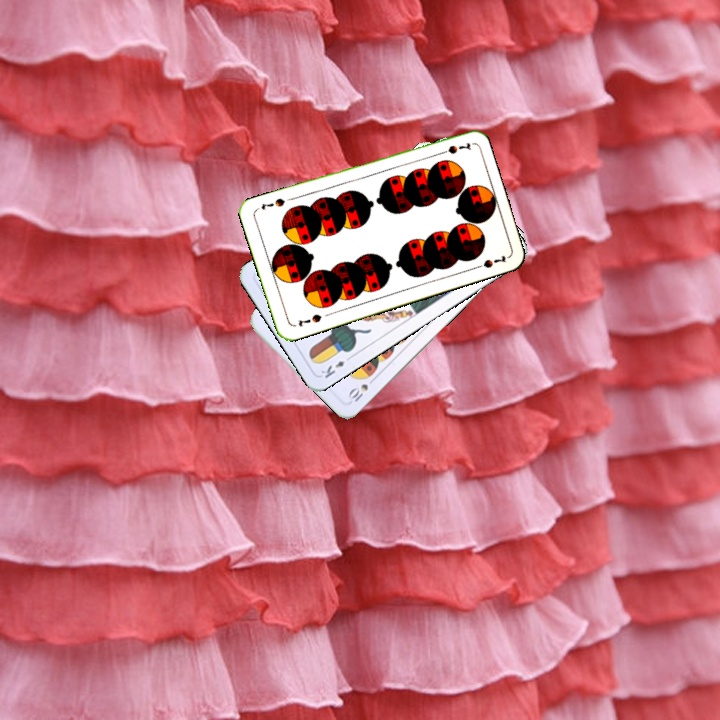EK: (317, 351, 355, 381)
S10: (344, 373, 379, 405)
S7: (433, 138, 473, 158), (294, 310, 324, 329)
